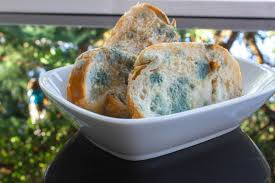mold_bread: (167, 76, 197, 116), (152, 19, 180, 41), (85, 66, 111, 87), (108, 46, 134, 67), (194, 56, 212, 82), (148, 91, 166, 116), (145, 68, 166, 85), (90, 48, 105, 64), (71, 55, 85, 70)
